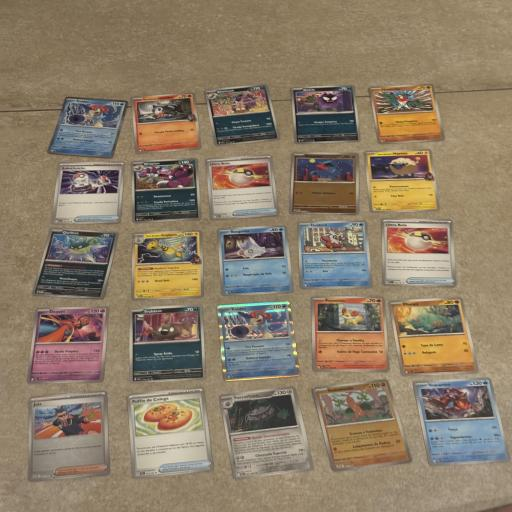card: (312, 369, 413, 481), (413, 367, 510, 477), (218, 381, 315, 484), (19, 390, 116, 482), (123, 387, 215, 480), (389, 296, 481, 377), (217, 299, 301, 383), (25, 306, 112, 384), (124, 304, 207, 384), (31, 227, 119, 300), (312, 296, 389, 372), (216, 224, 295, 297), (127, 230, 207, 302), (46, 94, 129, 160), (380, 218, 458, 288), (298, 221, 374, 290), (204, 82, 282, 148), (48, 161, 127, 225), (206, 153, 280, 221), (128, 157, 202, 225), (364, 149, 440, 213), (369, 83, 445, 146), (288, 151, 360, 215), (130, 91, 202, 154), (291, 84, 362, 146)
